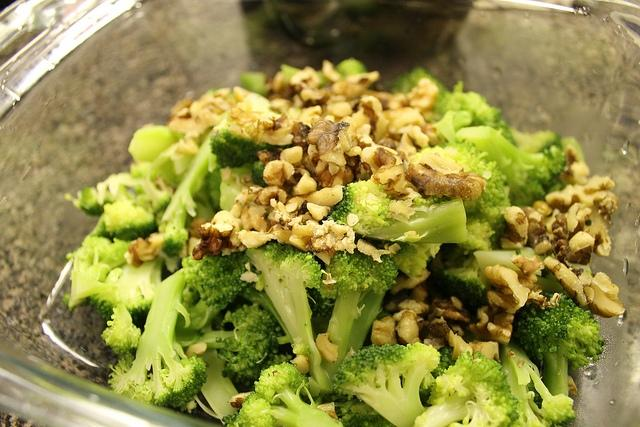broccoli: (107, 268, 208, 408), (240, 242, 328, 397), (318, 251, 399, 380), (420, 140, 510, 250), (512, 297, 606, 397), (327, 178, 469, 244), (332, 342, 440, 427), (456, 126, 568, 207), (174, 252, 266, 346), (413, 349, 522, 427), (196, 303, 292, 386), (158, 132, 221, 258), (236, 361, 342, 427), (498, 339, 576, 425), (90, 258, 164, 320), (194, 348, 239, 427), (88, 194, 158, 243), (65, 235, 132, 284), (384, 67, 452, 113), (208, 128, 273, 169), (63, 267, 121, 312), (128, 124, 186, 164), (101, 300, 141, 355), (392, 241, 442, 278), (464, 92, 502, 132), (241, 70, 270, 98), (334, 58, 368, 80), (434, 110, 456, 143), (560, 136, 585, 162)
